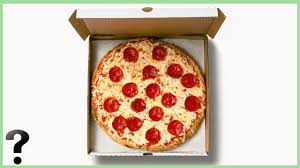pizza: (91, 41, 204, 148)
